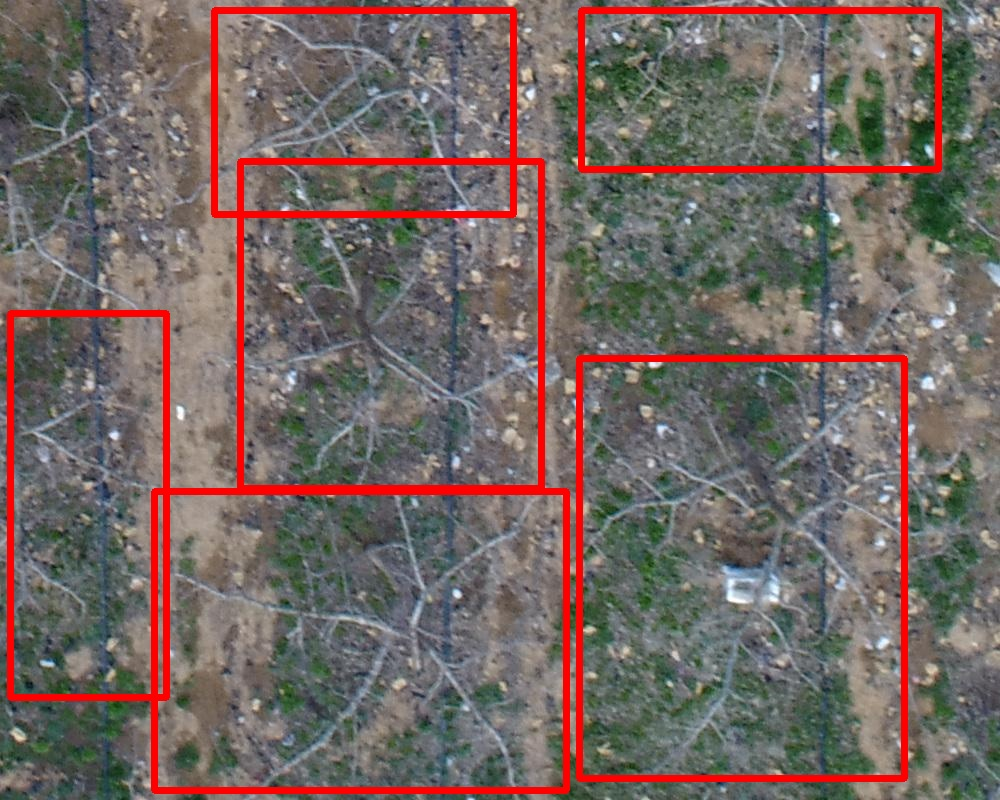apple: (579, 358, 904, 778), (154, 491, 566, 790), (240, 161, 541, 488), (214, 10, 513, 214), (10, 313, 166, 697), (581, 10, 938, 169)
